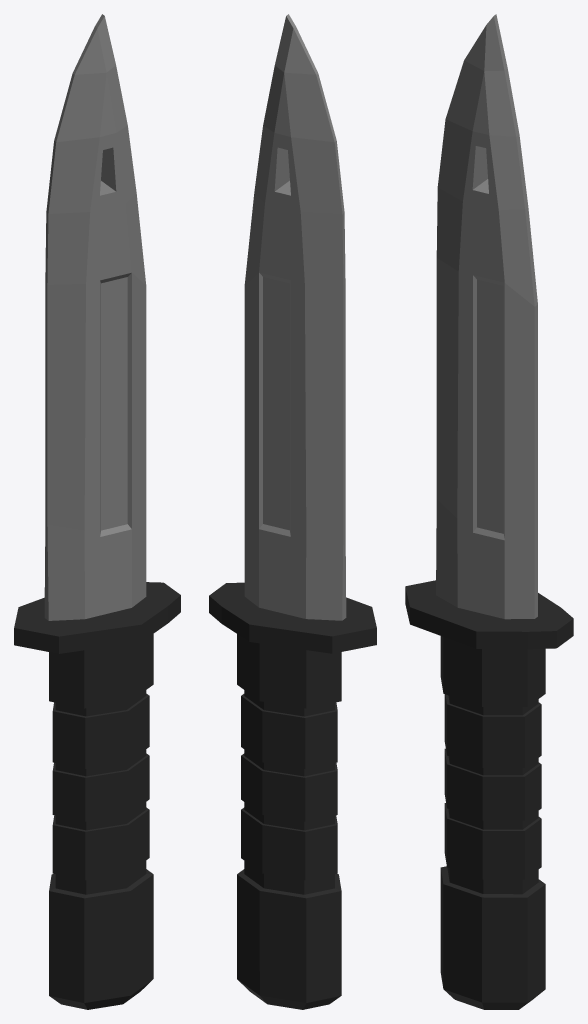
File: M9 Knife.fbx
3 views of the same model, side by side, from view 1: azimuth 30°, elevation 25°; view 2: azimuth 150°, elevation 25°; view 3: azimuth 330°, elevation 25° (orthographic).
Visible parts, largest first — view 1: M9 Knife; view 2: M9 Knife; view 3: M9 Knife.
Boxes of the visible parts, x1,y1,x2,y2 form: M9 Knife: [14, 14, 180, 1009]; M9 Knife: [209, 14, 376, 1009]; M9 Knife: [405, 14, 573, 1009].
Bounding box in the file's own units: 57.82 × 341 × 35.98.
Materials: 1 (1 with a texture image).
